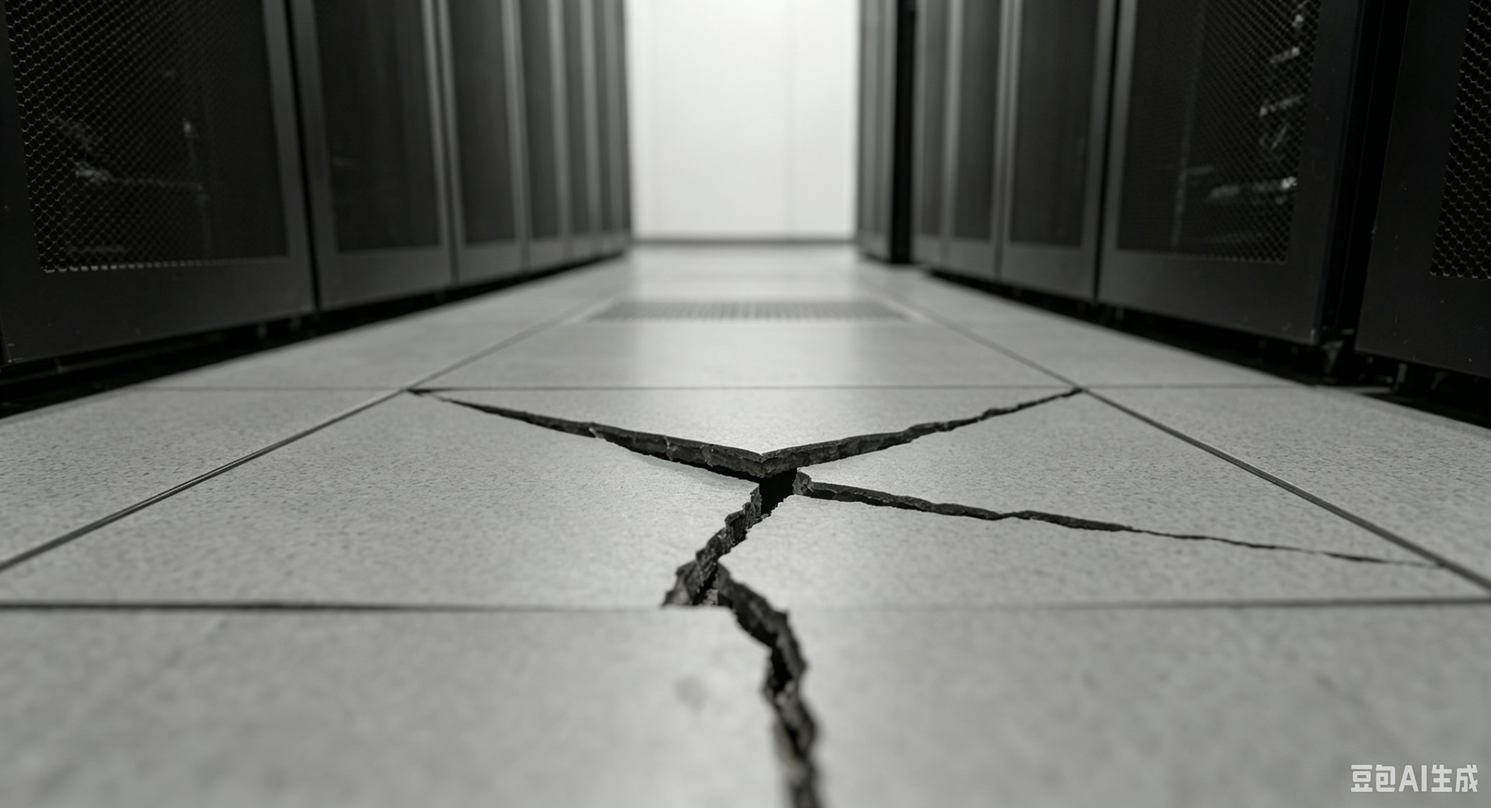floor_defect: (372, 364, 796, 493), (776, 471, 1172, 552), (704, 618, 859, 808), (795, 386, 1096, 467), (1181, 515, 1440, 587), (657, 492, 774, 612)
